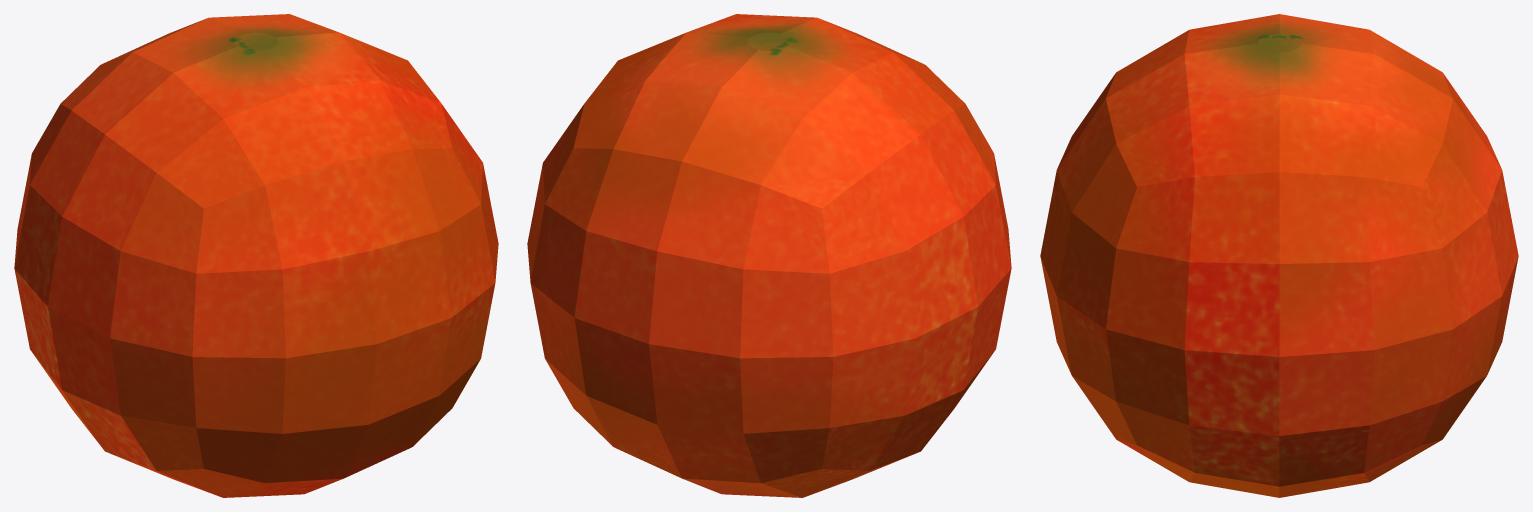
The model's file is Arancia.fbx.
The picture shows the model from 3 angles, left to right: view 1: azimuth 30°, elevation 25°; view 2: azimuth 150°, elevation 25°; view 3: azimuth 270°, elevation 25°; orthographic projection.
Visible parts, largest first — view 1: Arancia; view 2: Arancia; view 3: Arancia.
Part boxes in pixels (x1=…): Arancia: x1=14, y1=14, x2=498, y2=497; Arancia: x1=527, y1=14, x2=1011, y2=497; Arancia: x1=1040, y1=14, x2=1518, y2=497.
Size of the model in its own units: 128 by 126 by 128.
